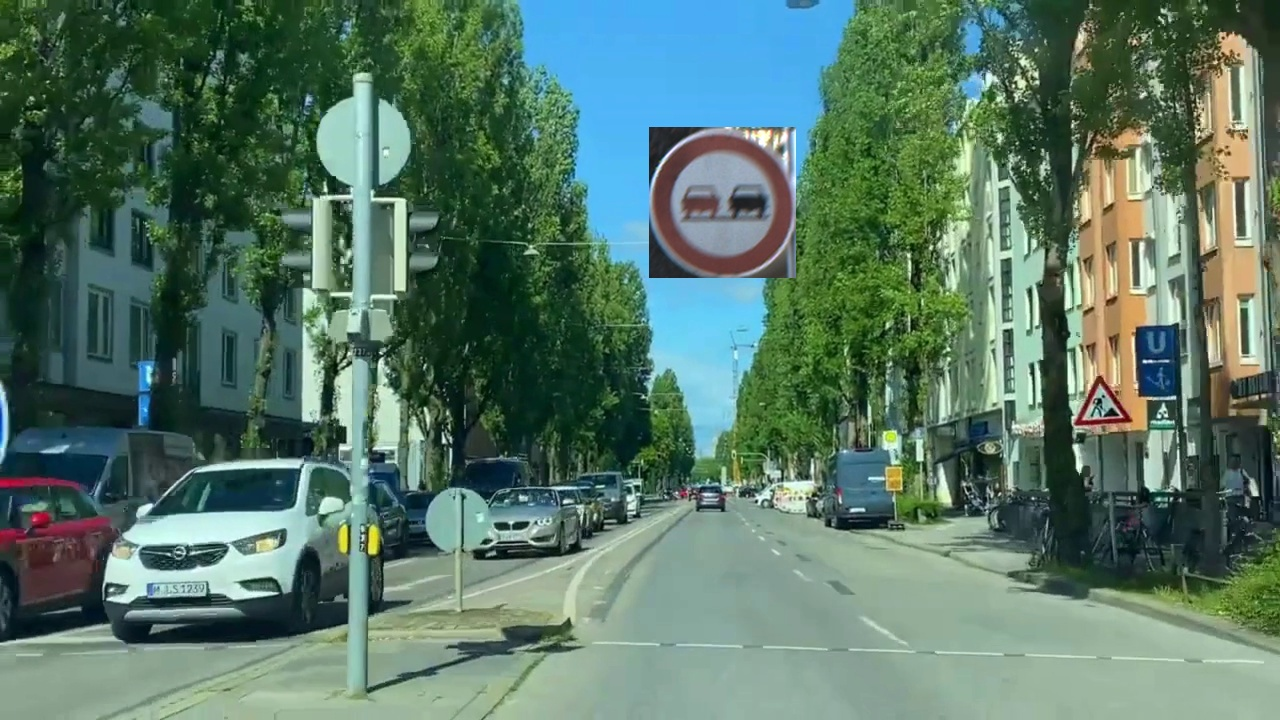No passing: (649, 127, 796, 278)
